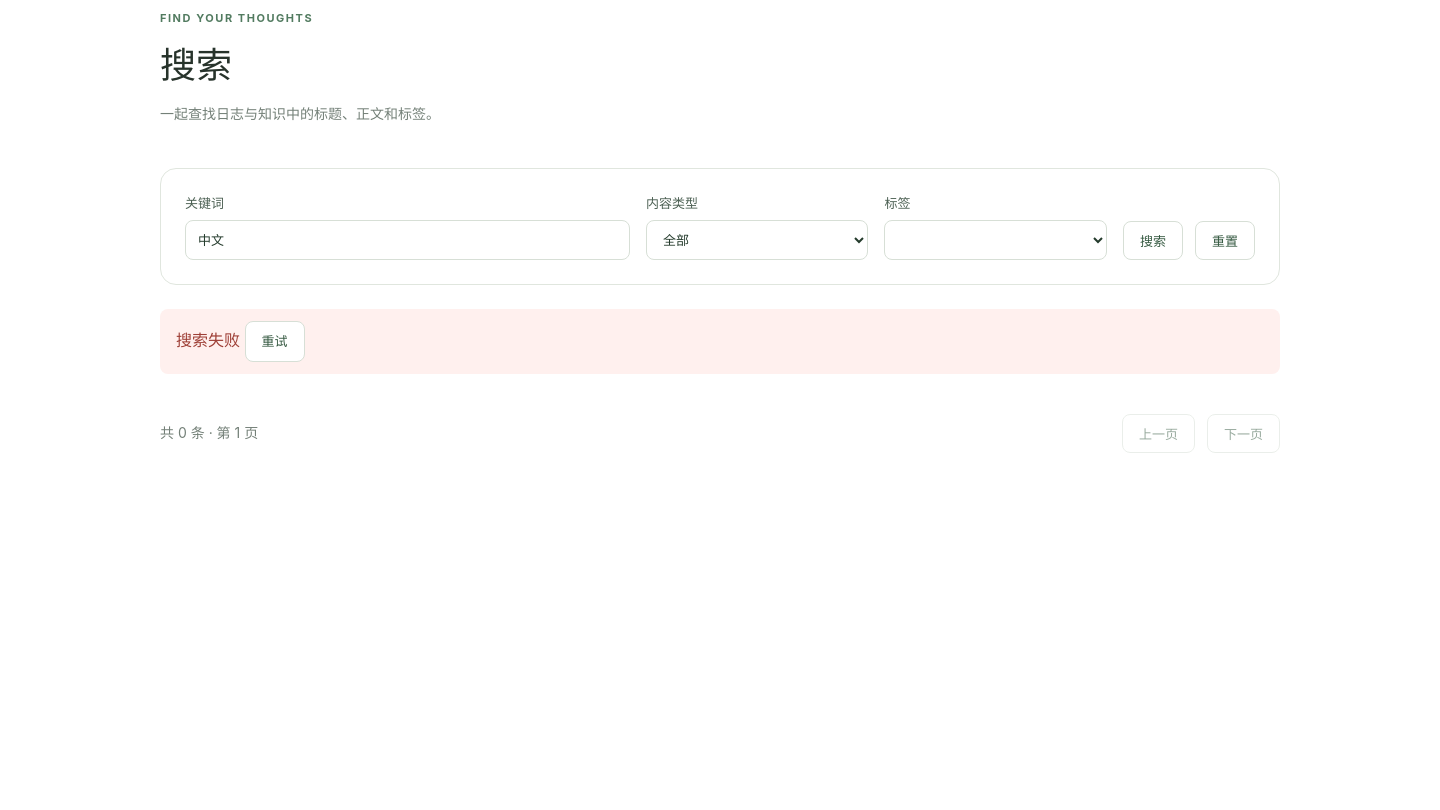
Test: keeps the two source types separate even when their IDs match and retries errors
This screenshot has width=1440, height=810.
Expected: the message "搜索失败 重试" is shown, [160,309,1280,374]
Click the button "重试": click(274, 341) [244,321,304,362]
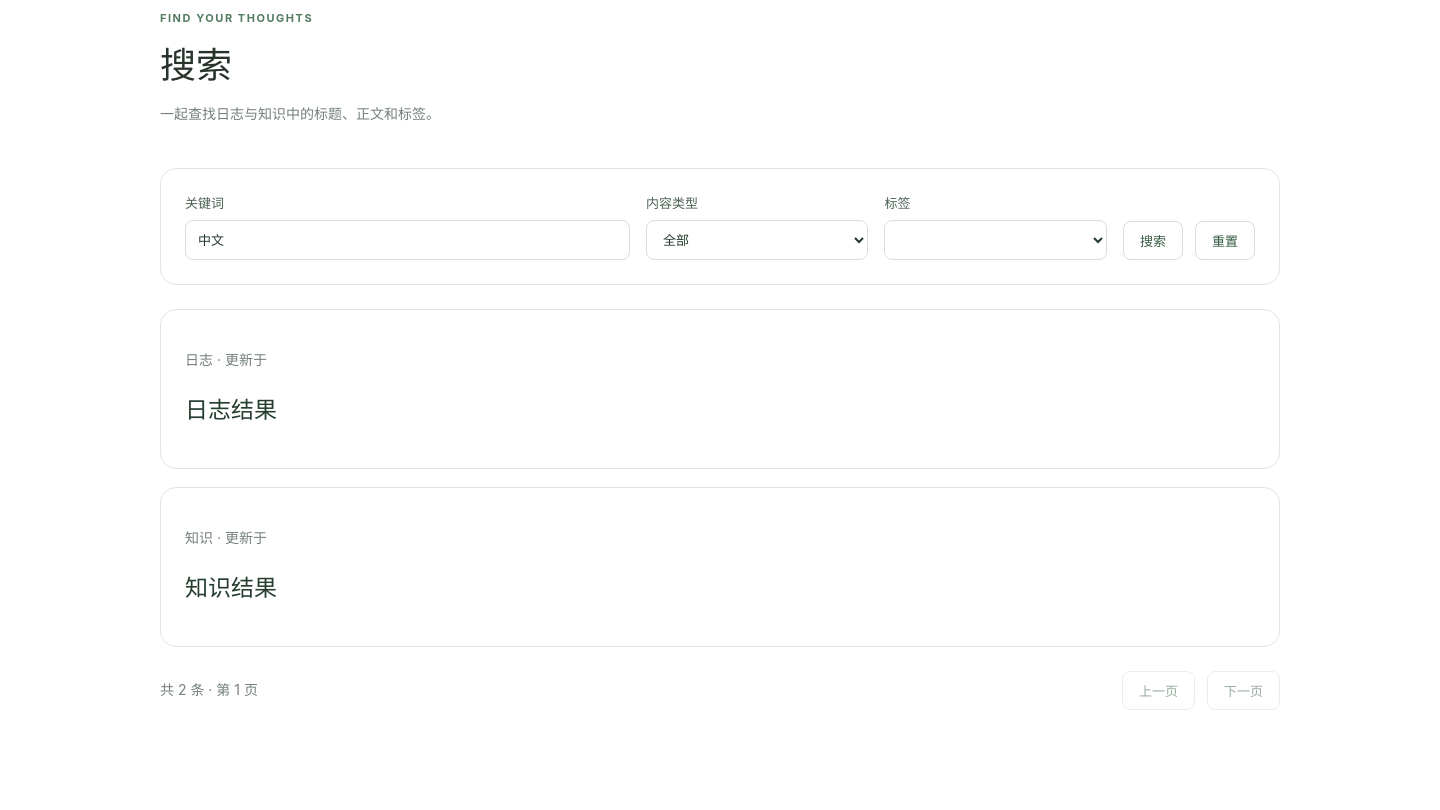
Expected: the link to "/journals/1" reads "日志结果", [185,396,277,424]
Expected: the link to "/knowledge/1" reads "知识结果", [185,574,277,602]
